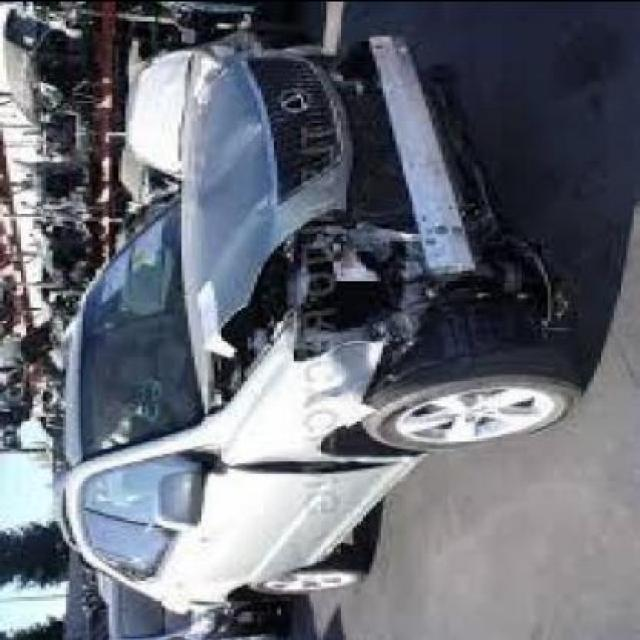damage: (181, 44, 577, 481)
